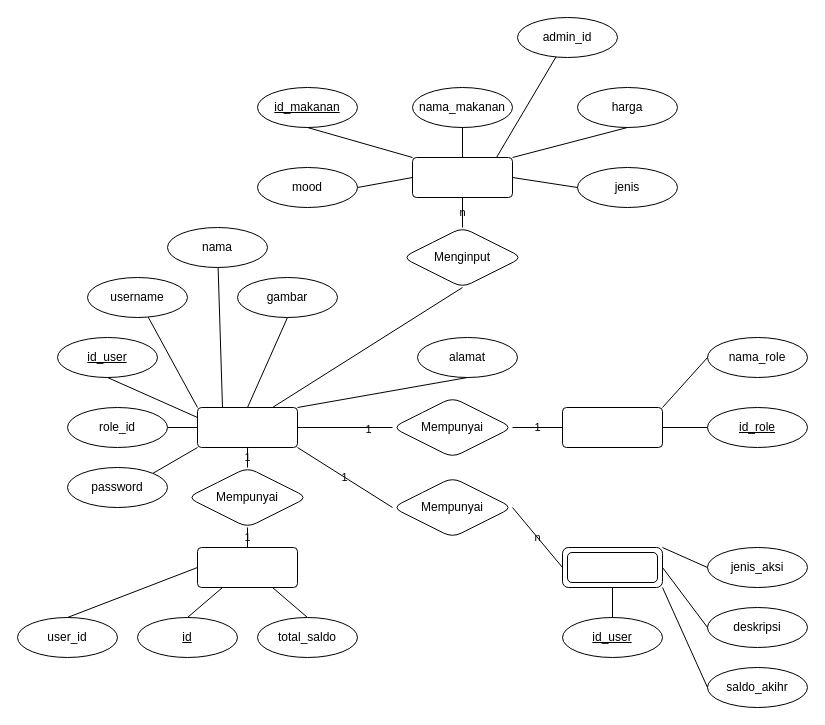
Image size: 825x725. Some labels were removed from this diagram. Here are the shapes that lost their labels. From the top down, the centre of each, then its label:
the point at 462,177: MAKANAN
the point at 247,427: USER
the point at 612,427: ROLE
the point at 247,567: KEUANGAN
the point at 612,567: HISTORY
